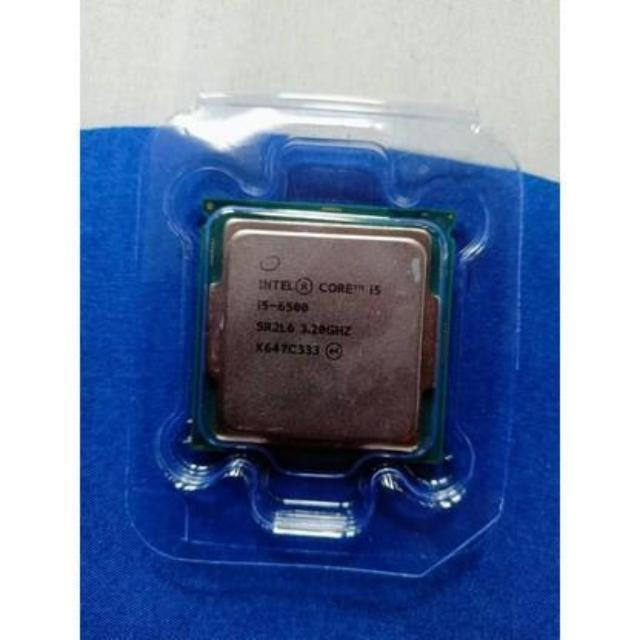CPU: (212, 214, 434, 452)
